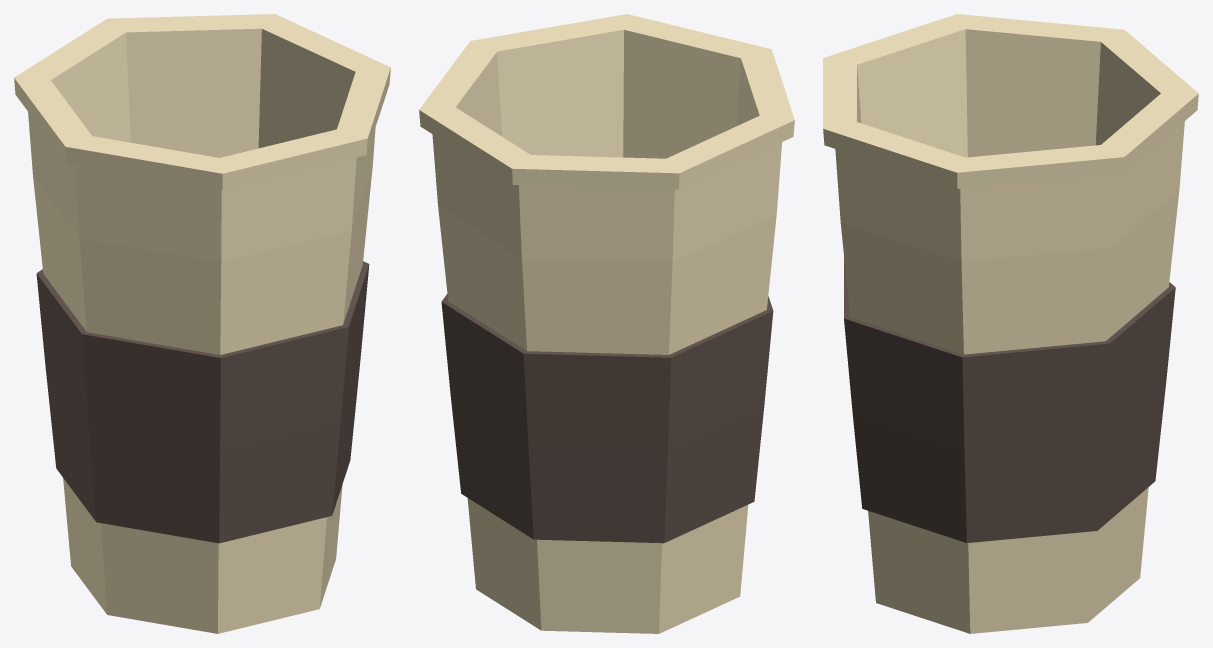
File: vaso grande.fbx
3 views of the same model, side by side, from view 1: azimuth 30°, elevation 25°; view 2: azimuth 150°, elevation 25°; view 3: azimuth 270°, elevation 25° (orthographic).
Parts seen in each view (by area): view 1: vaso grande; view 2: vaso grande; view 3: vaso grande.
Boxes of the visible parts, x1,y1,x2,y2 form: vaso grande: (14, 14, 390, 633); vaso grande: (419, 14, 794, 633); vaso grande: (823, 14, 1198, 633).
Size of the model in its own units: 10.54 by 10.54 by 15.
